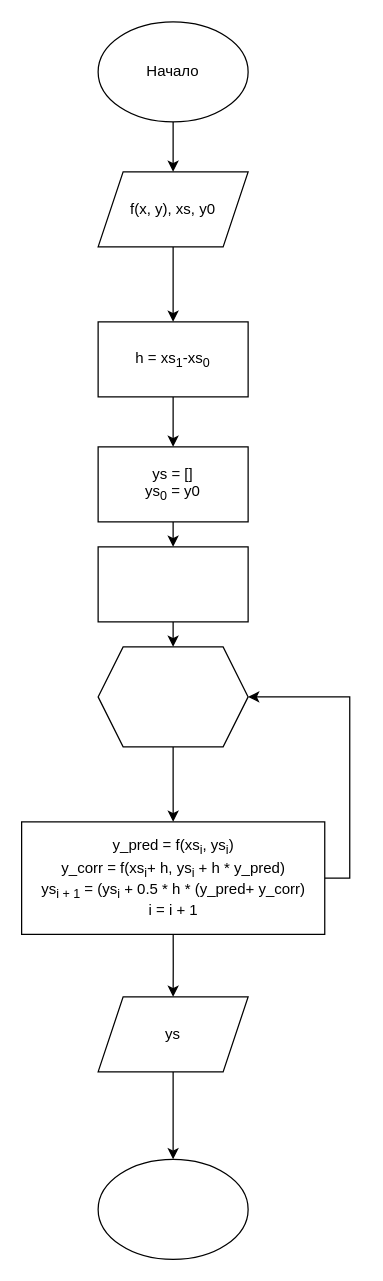
Image size: 383x1281. Some labels were removed from this diagram. Here are the shapes that lost their labels. From the top down, the centre of each, then its label:
At (x=172, y=584): "i = 0 n = xs.length - 2".
At (x=172, y=696): "i < n - 2".
At (x=172, y=1208): "Конец".
